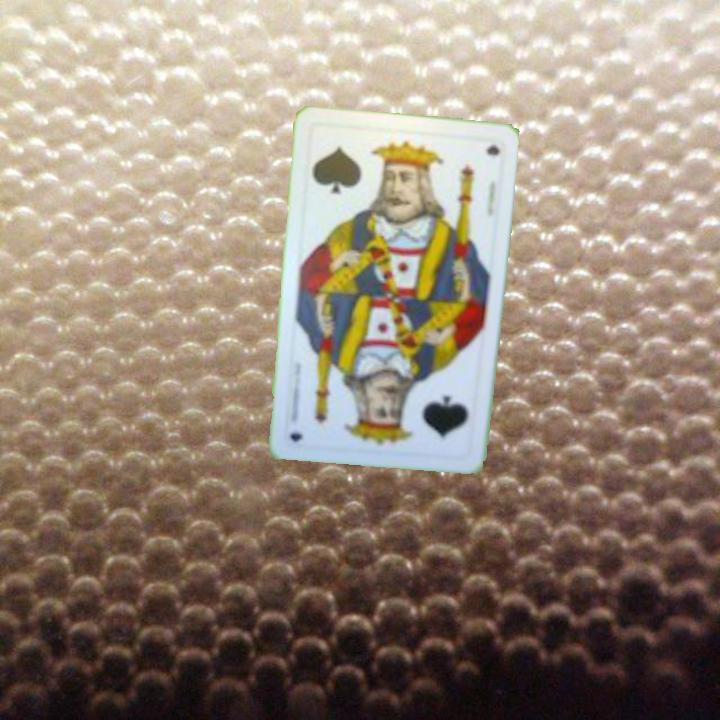s_k.png: (302, 122, 408, 216), (377, 365, 483, 458)
